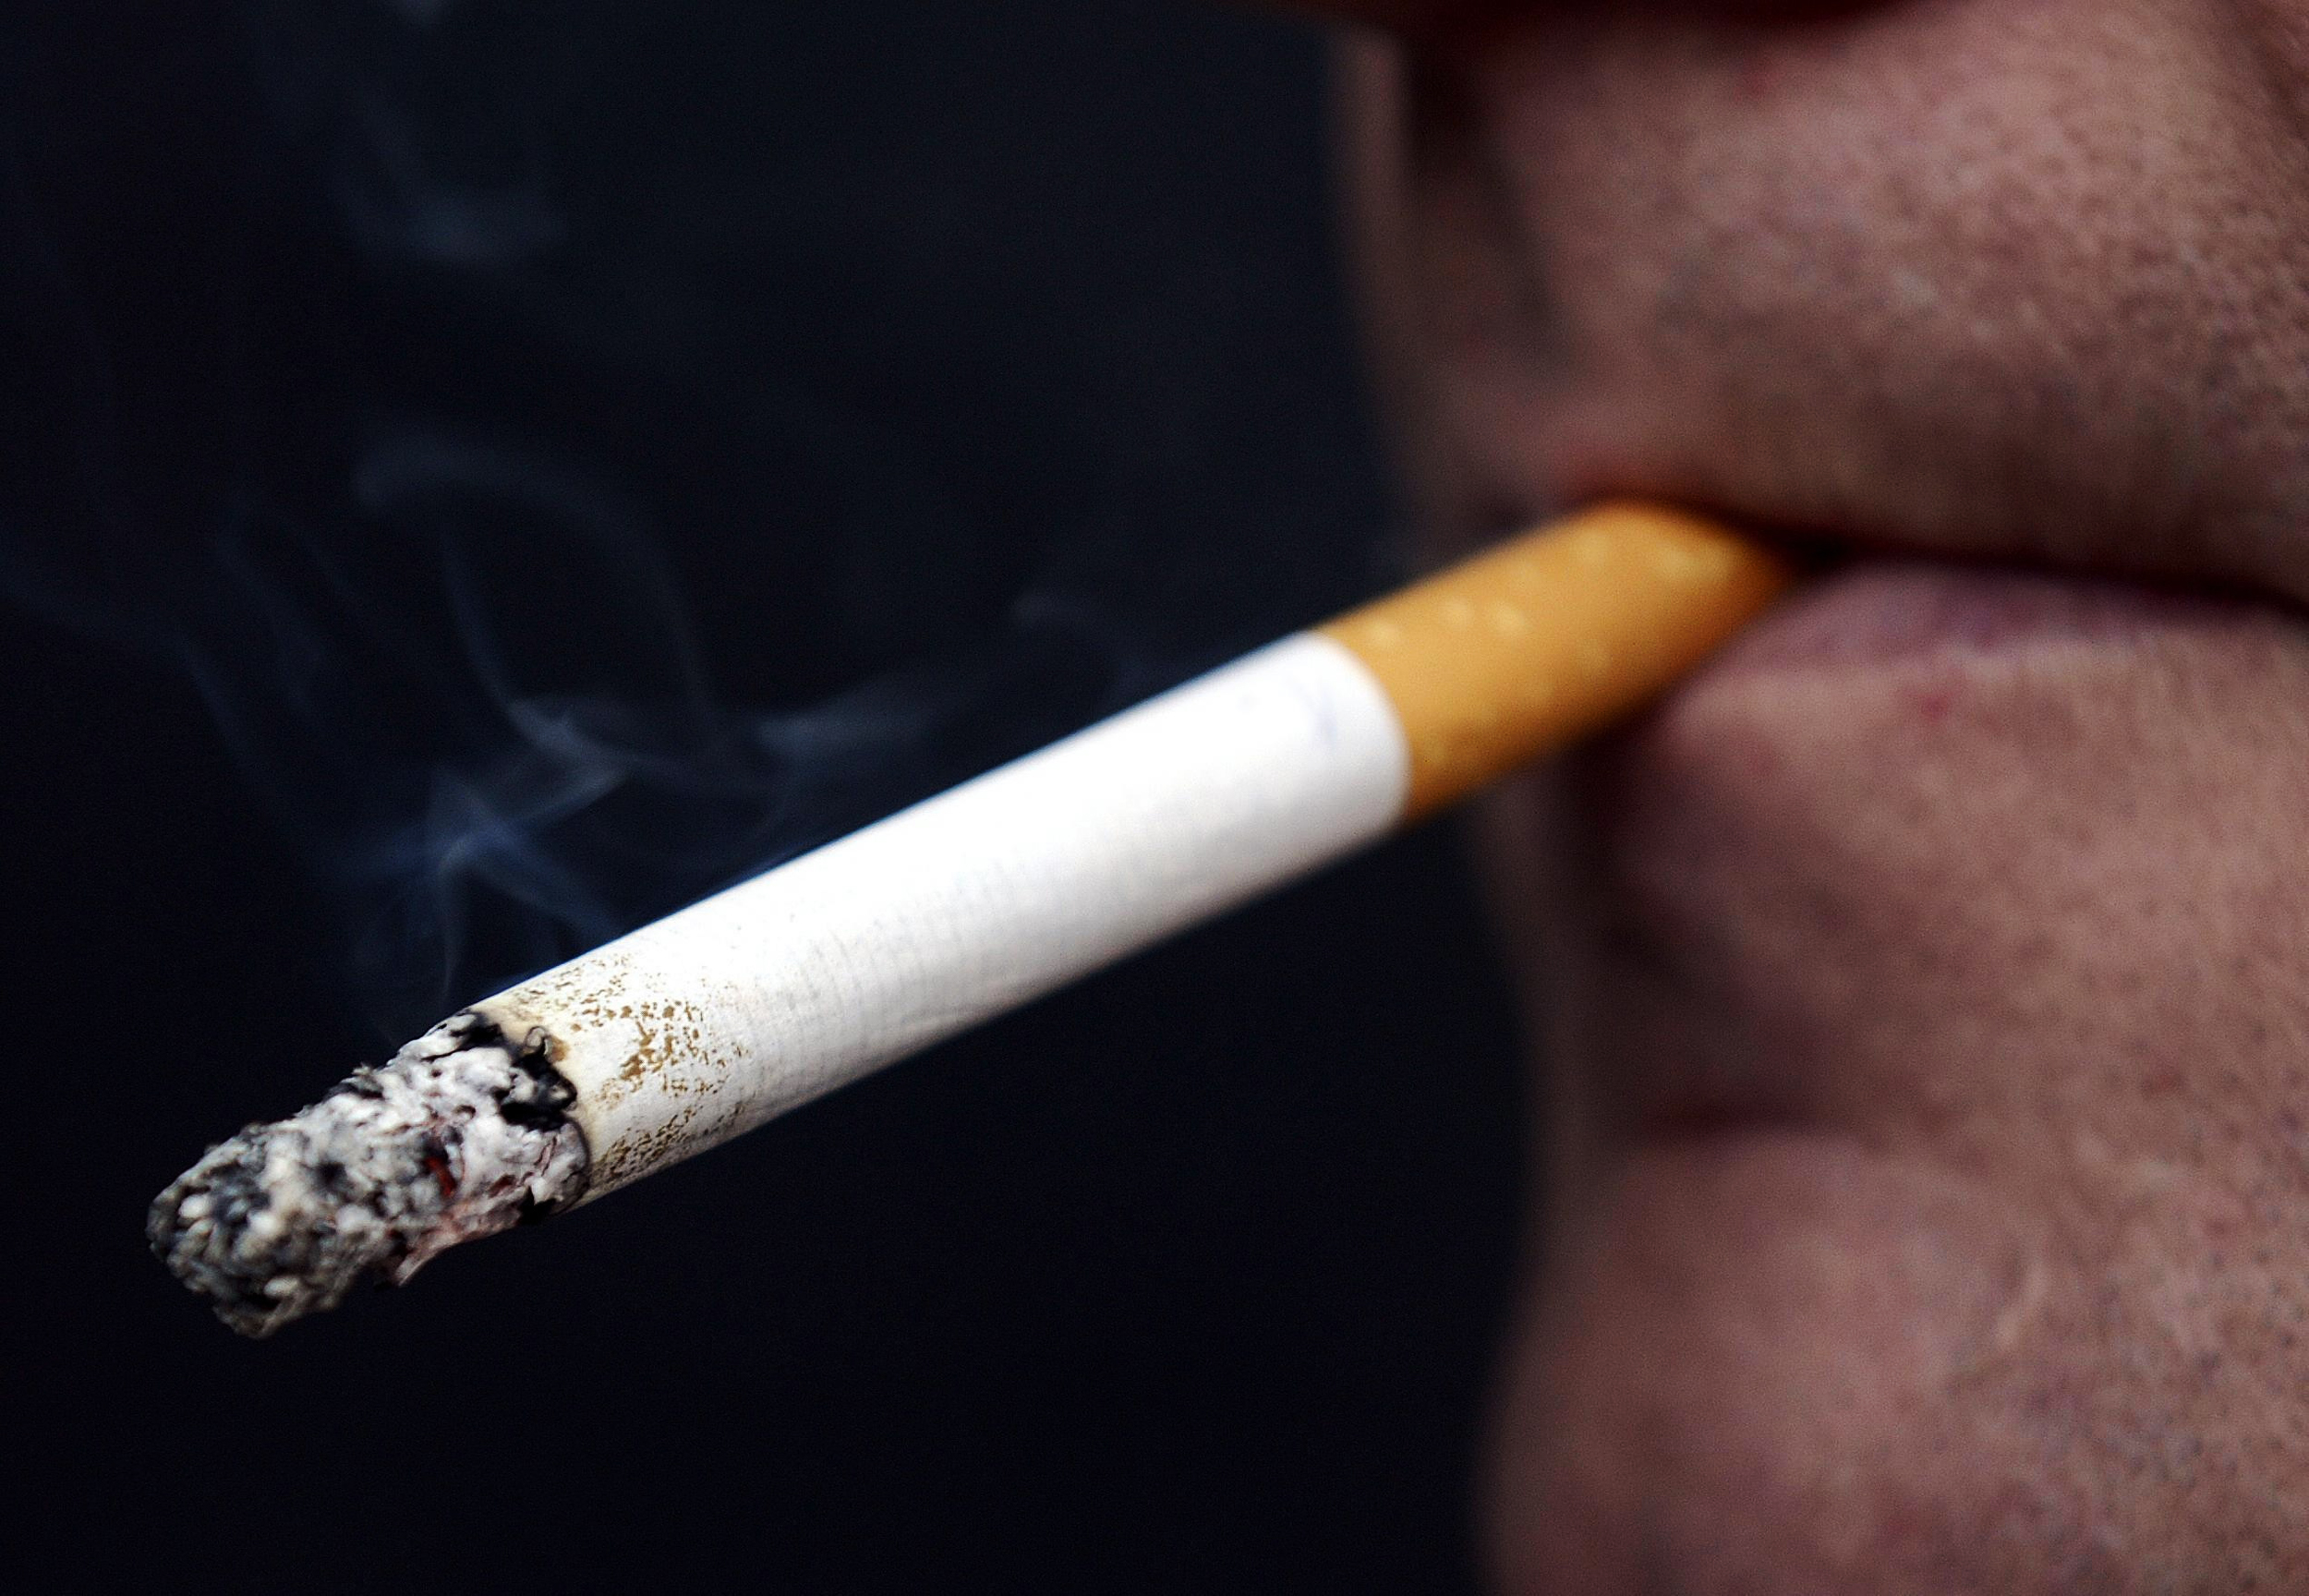cigarette: (116, 423, 1911, 1382)
